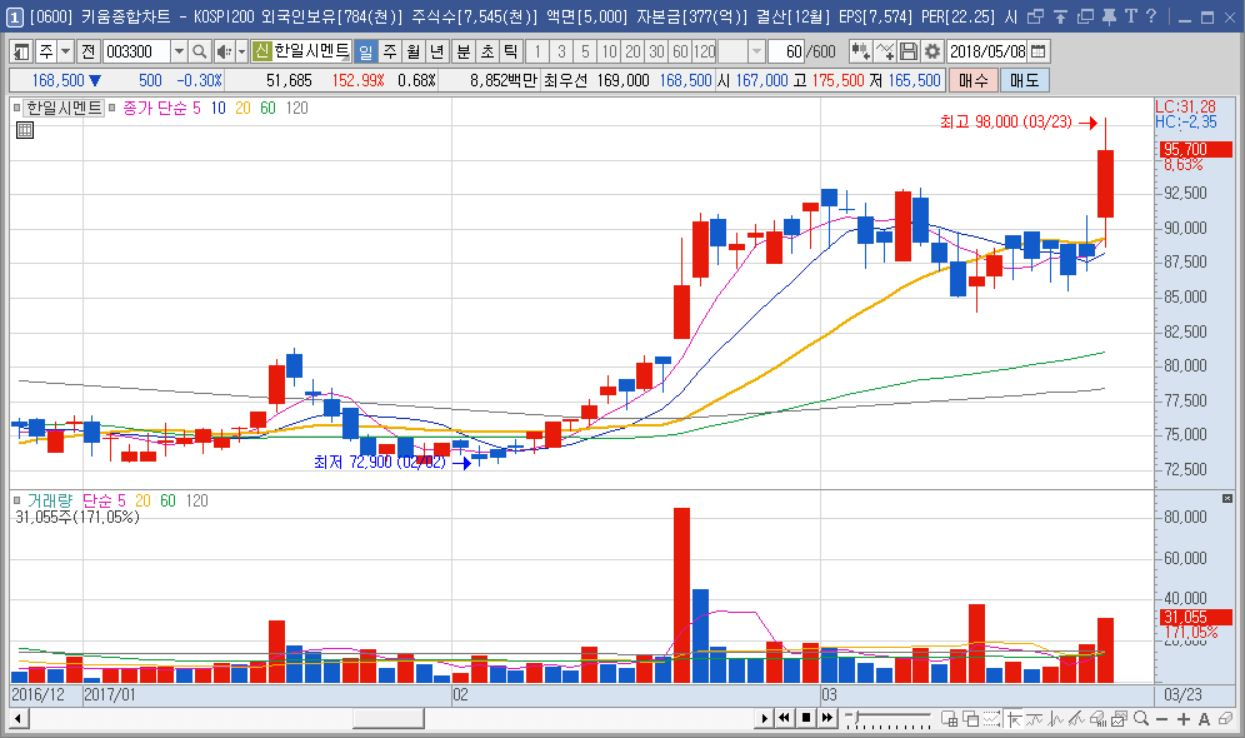up: (470, 113, 1115, 680)
